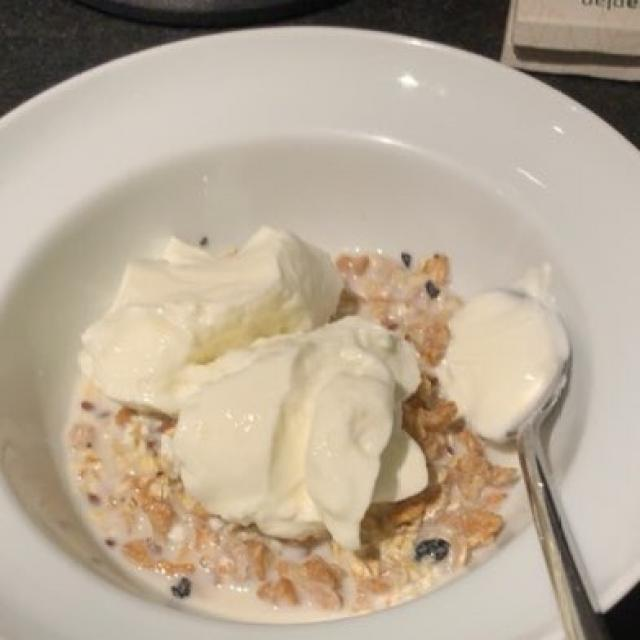curds: (81, 245, 556, 542)
muesli: (81, 260, 502, 605)
